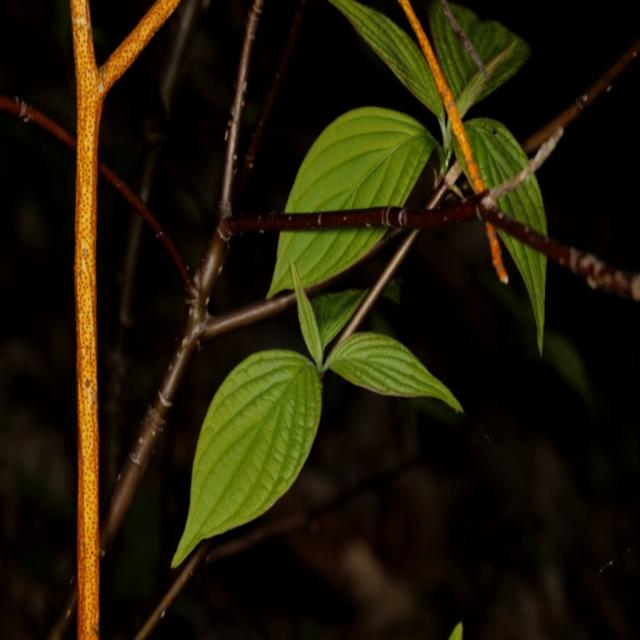Golden_canker: (68, 0, 181, 637), (398, 0, 510, 286)
